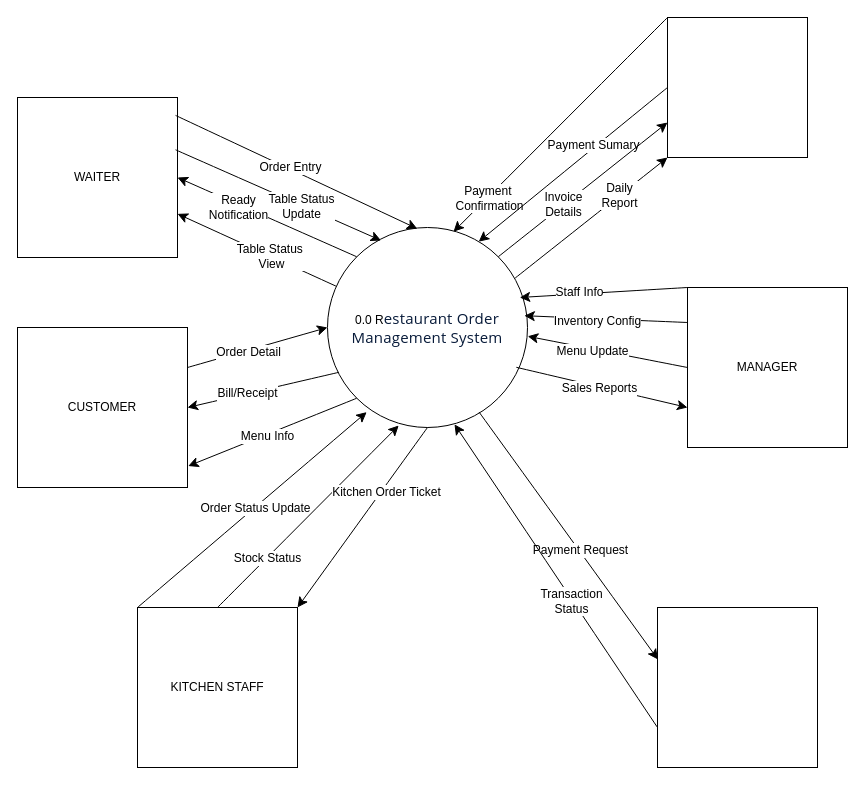
This 865x785 diagram has some shape labels left out. The shapes that lost their labels are listed below. From the top down, each one's centre as x and y in pixels, then its label:
point 737,87: CASHIER
point 737,687: EXTERNAL PAYMENT GATEWAY
